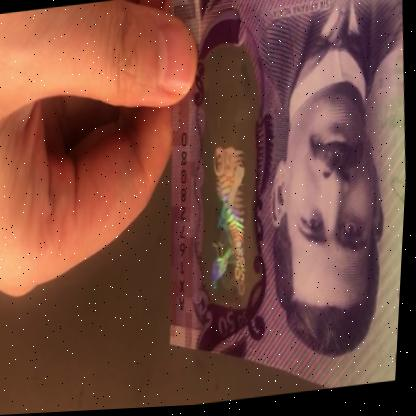50F: (199, 74, 265, 307)
